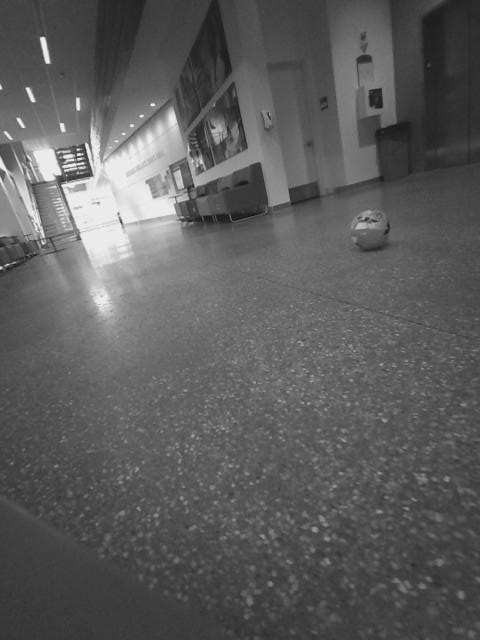ball: (344, 202, 403, 257)
